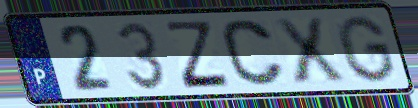2: (58, 22, 116, 92)
3: (111, 20, 169, 93)
C: (219, 17, 288, 88)
G: (334, 13, 399, 85)
X: (270, 15, 349, 87)
Z: (163, 19, 234, 91)
